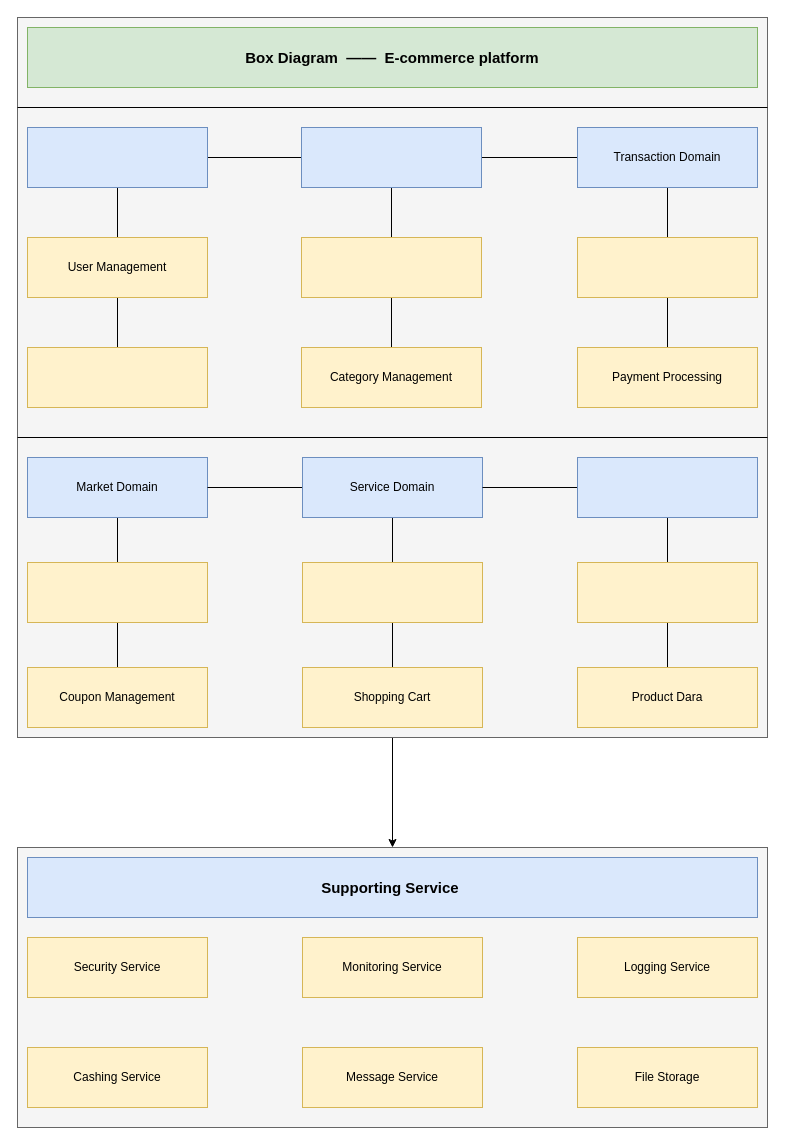
This 786x1145 diagram has some shape labels left out. The shapes that lost their labels are listed below. From the top down, each one's centre as x and y in pixels, then its label:
At (117,157): "Customer Domain".
At (391,157): "Product Domain".
At (391,267): "Product Management".
At (667,267): "Order Management".
At (117,377): "Identity Authentication".
At (667,487): "Data Domain".
At (117,592): "Promotion Management".
At (392,592): "Search Service".
At (667,592): "User Data".
